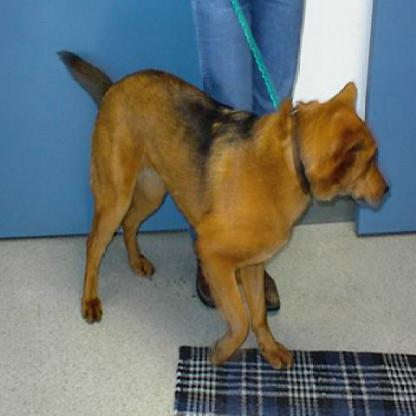dog: (83, 34, 395, 356)
